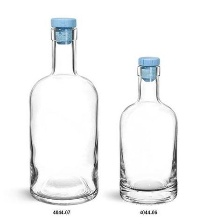bottle: (25, 12, 105, 205), (112, 44, 187, 205)
